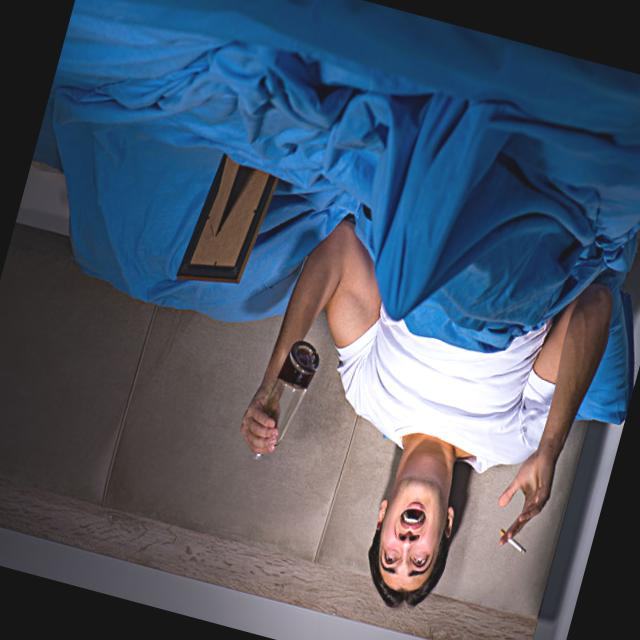cigarette: (492, 526, 530, 560)
